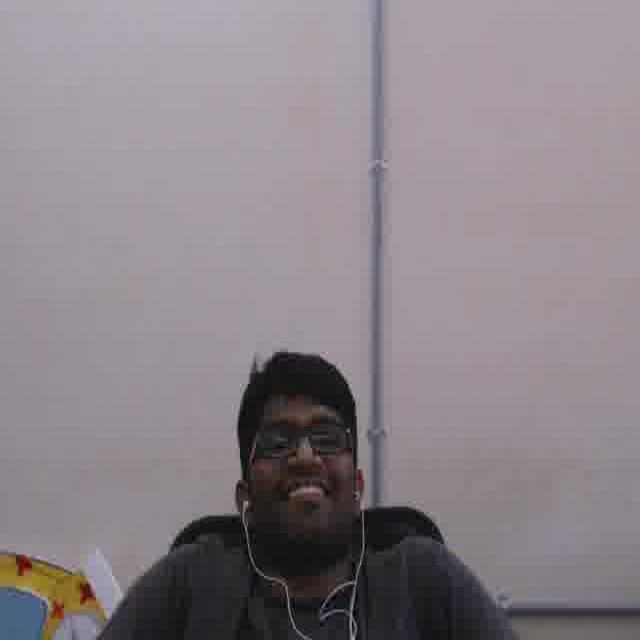Boredom: (248, 381, 350, 539)
